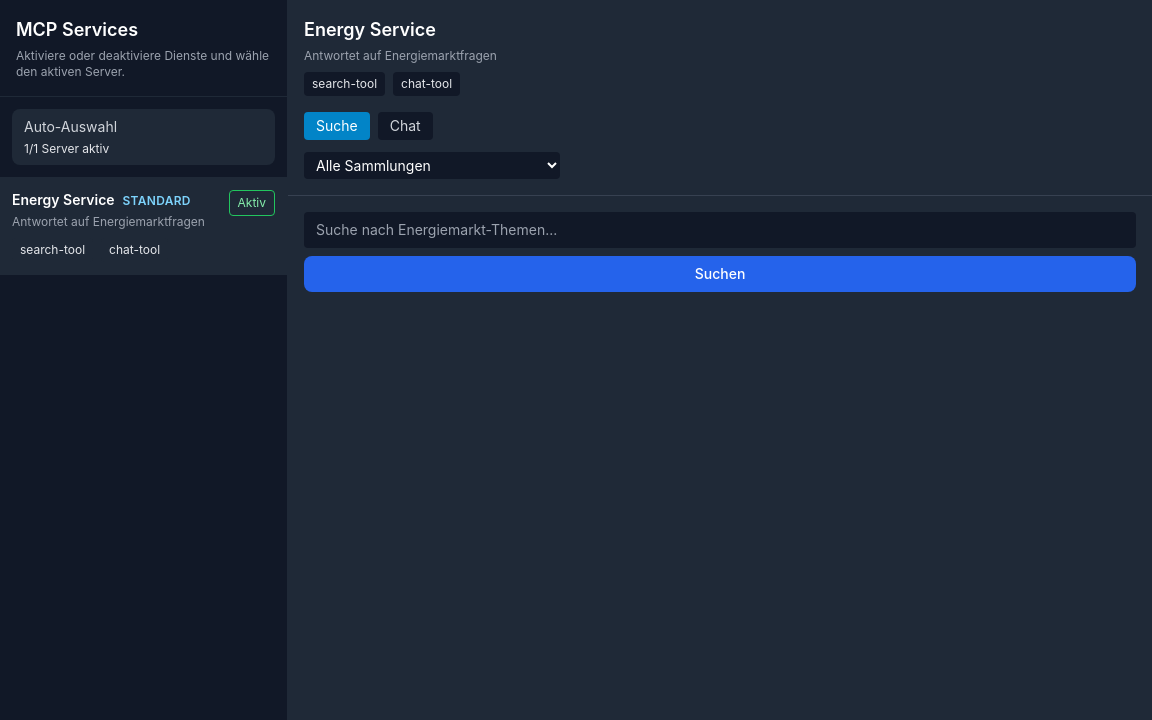
Test case: MCPPanel › appends chat responses with server label
Click the button "Chat". click: (405, 126)
box: [378,112,433,140]
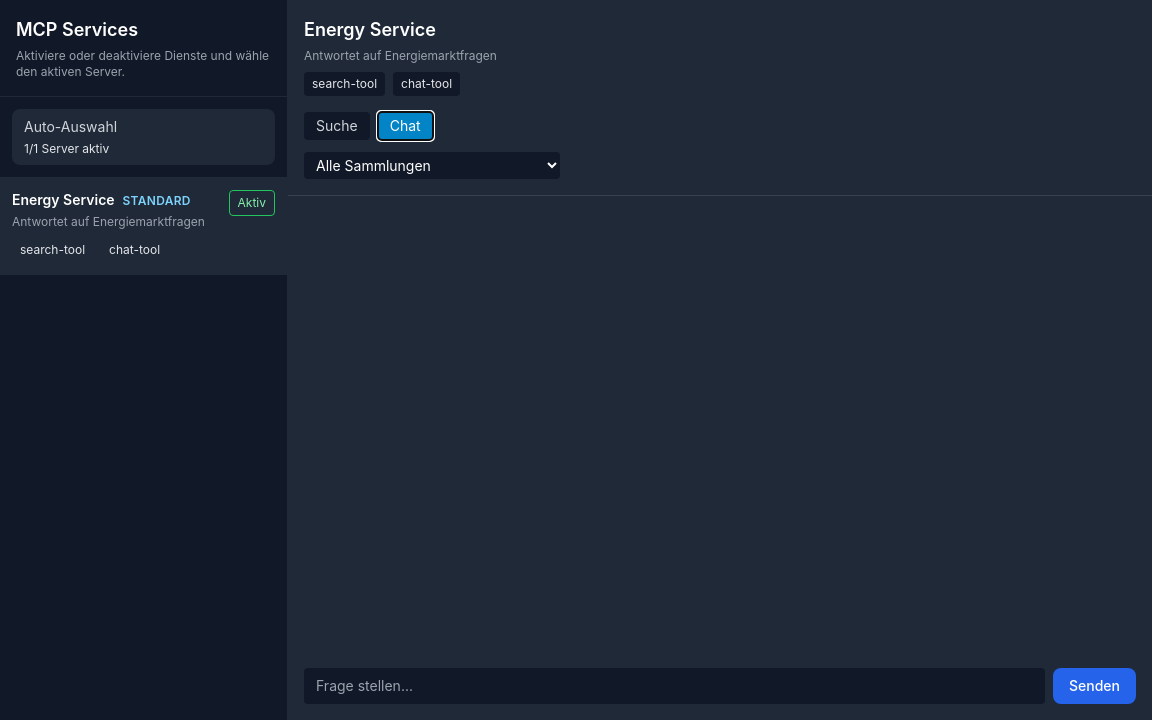
Type "Wie funktioniert GPKE?" into the field with placeholder "Frage stellen...". click: (674, 686)
box: [304,668,1045,704]
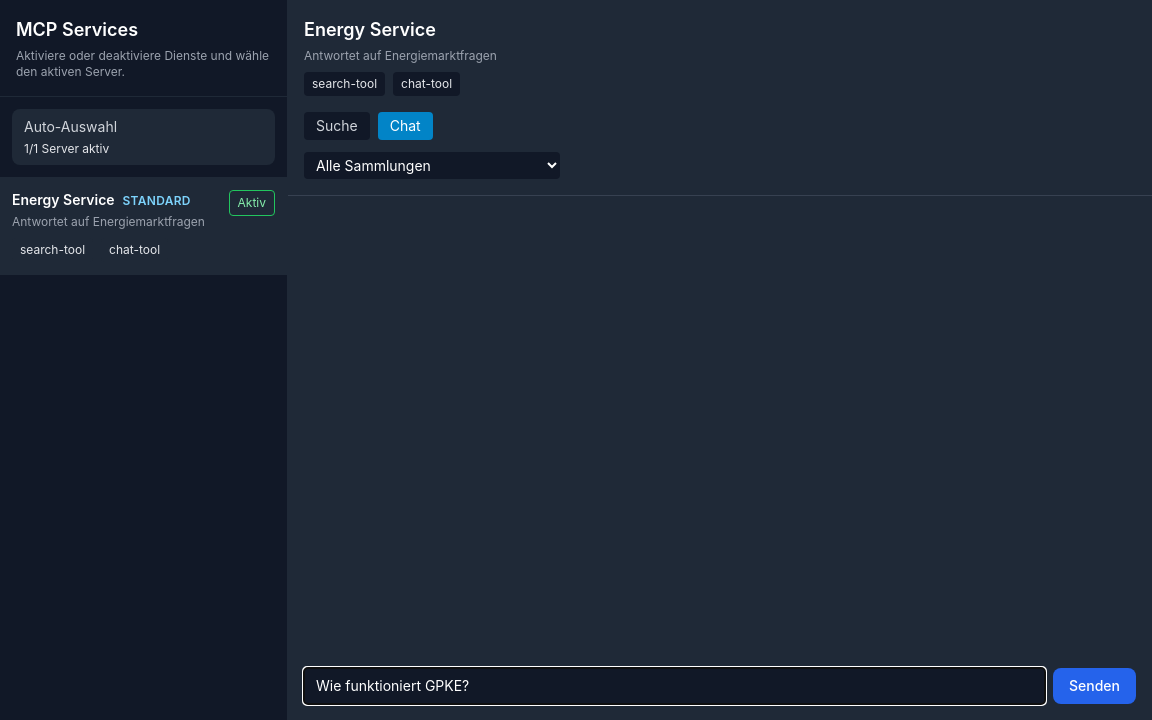
Click the button "Senden". click: (1094, 686)
box: [1053,668,1136,704]
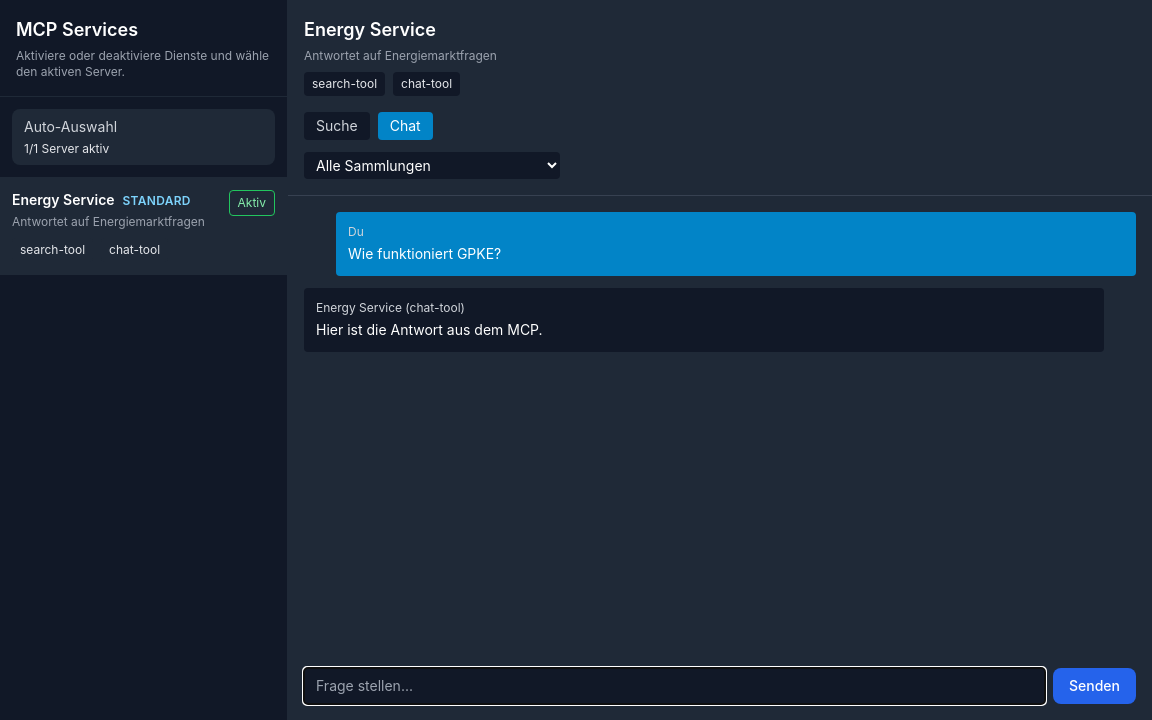
Now the text "Hier ist die Antwort aus dem MCP." is shown, box [316,321,543,338]
Now the text "Energy Service (chat-tool)" is shown, box [316,300,465,315]
